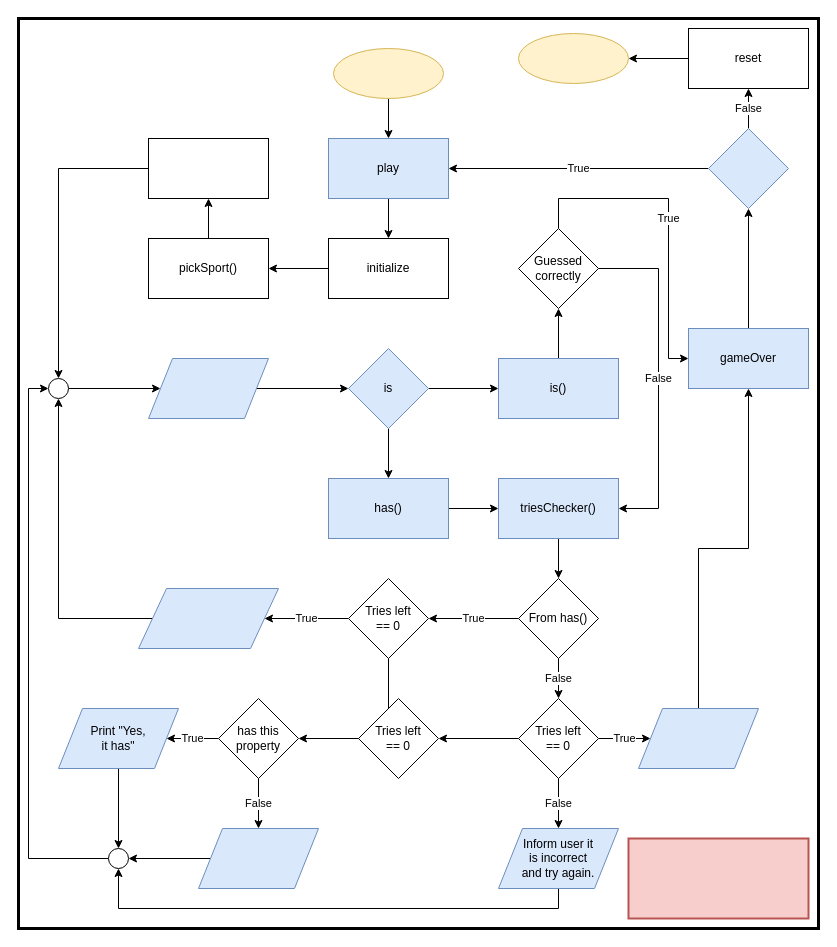
This 837x947 diagram has some shape labels left out. Here are the shapes that lost their labels. From the top down, the centre of each, then its label:
point 388,73: Start
point 573,58: End
point 208,168: sportsAvailable()
point 748,168: User request play again
point 208,388: User input
point 208,618: Inform user no more tries allow. Must guess the sport.
point 698,738: Inform user it is incorrect.
point 258,858: Print "No"
point 718,878: Legend White: System rules/logic Blue: User interface/interaction
